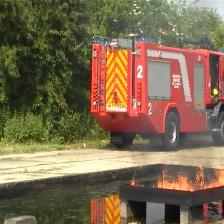fire: (152, 168, 224, 192)
